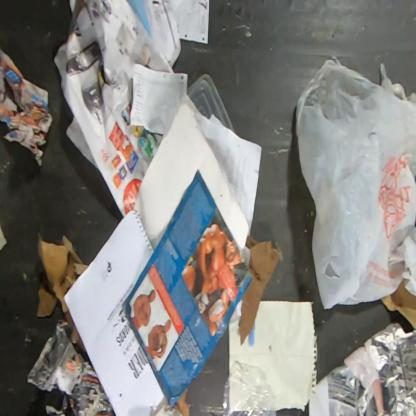cardboard: (36, 235, 90, 347), (238, 236, 281, 347)
rigid_plastic: (223, 361, 278, 415), (186, 75, 235, 132)
soft_plastic: (295, 57, 416, 310)
